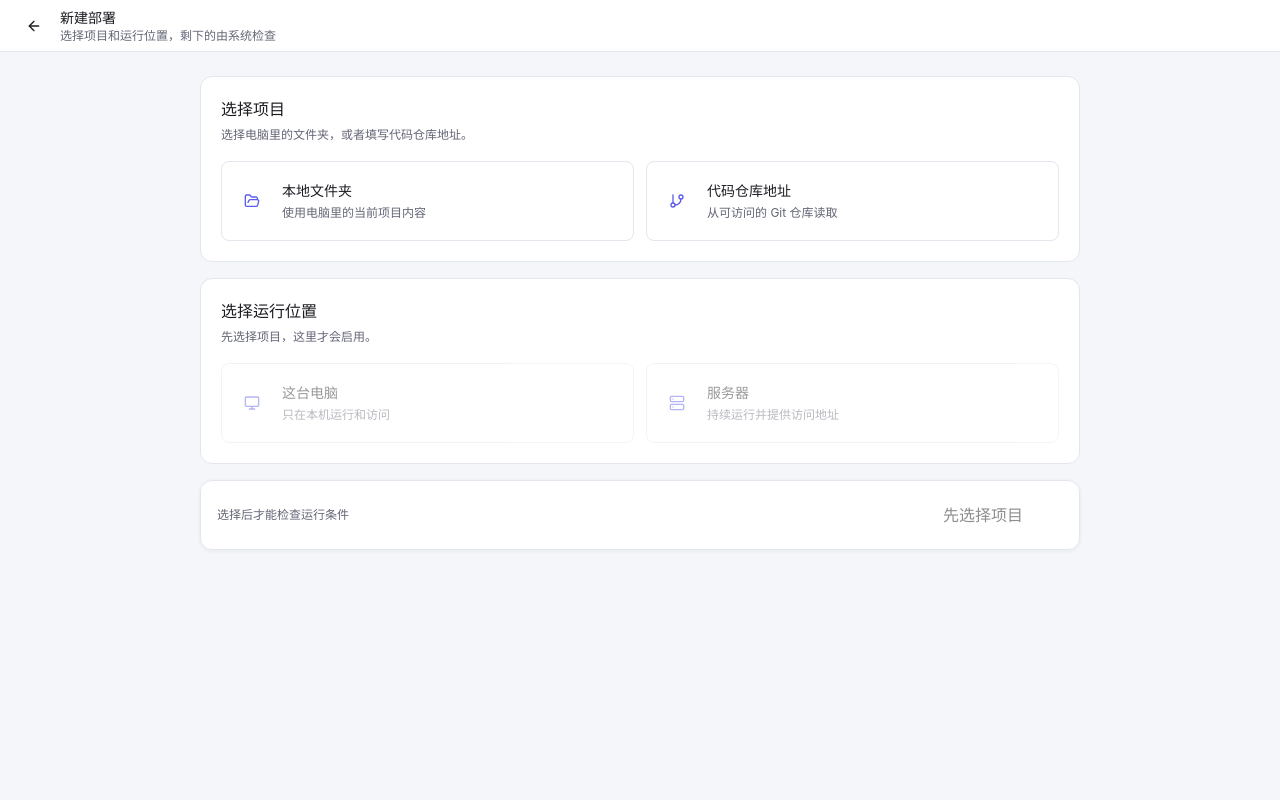
it: DeploymentEditorController source refresh › 没有 HTTP 服务时明确停止，不进入无法产生访问证据的运行
Click the button "本地文件夹 使用电脑里的当前项目内容": (252, 201) [221,161,634,241]
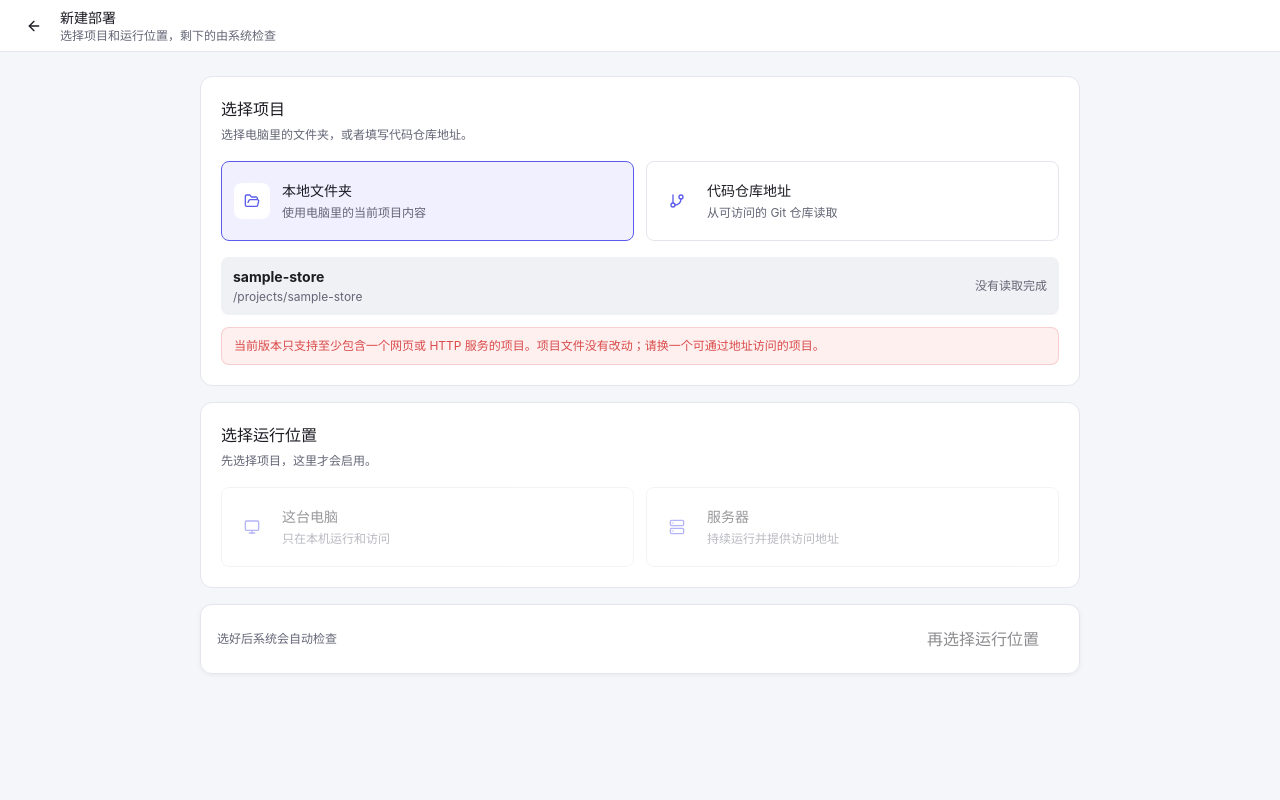
Expected: the button "这台电脑 只在本机运行和访问" is disabled, [221,487,634,567]
Now the message shows "当前版本只支持至少包含一个网页或 HTTP 服务的项目", box [234,338,825,353]
